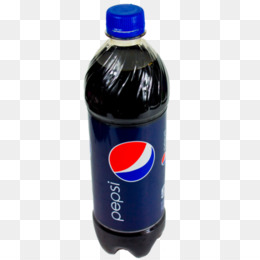bottle: (82, 2, 181, 260)
pepsi: (106, 140, 159, 183)
plastic: (80, 1, 185, 260)
